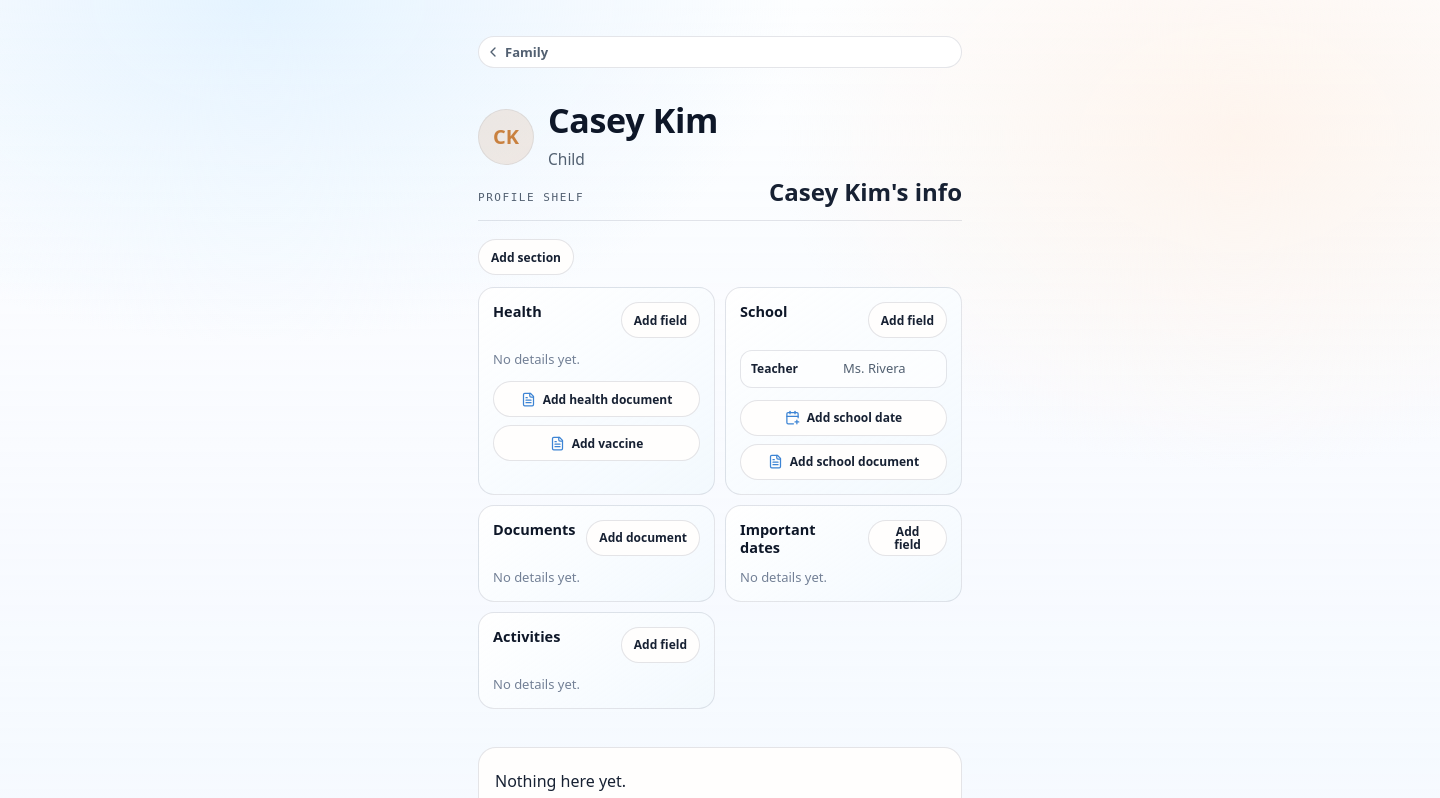
Test: MemberProfileView profile sections › adds a private field inside a profile section
Step 1. Click the button with aria-label "Add field to Health" → (660, 320), box [621,302,700,338]
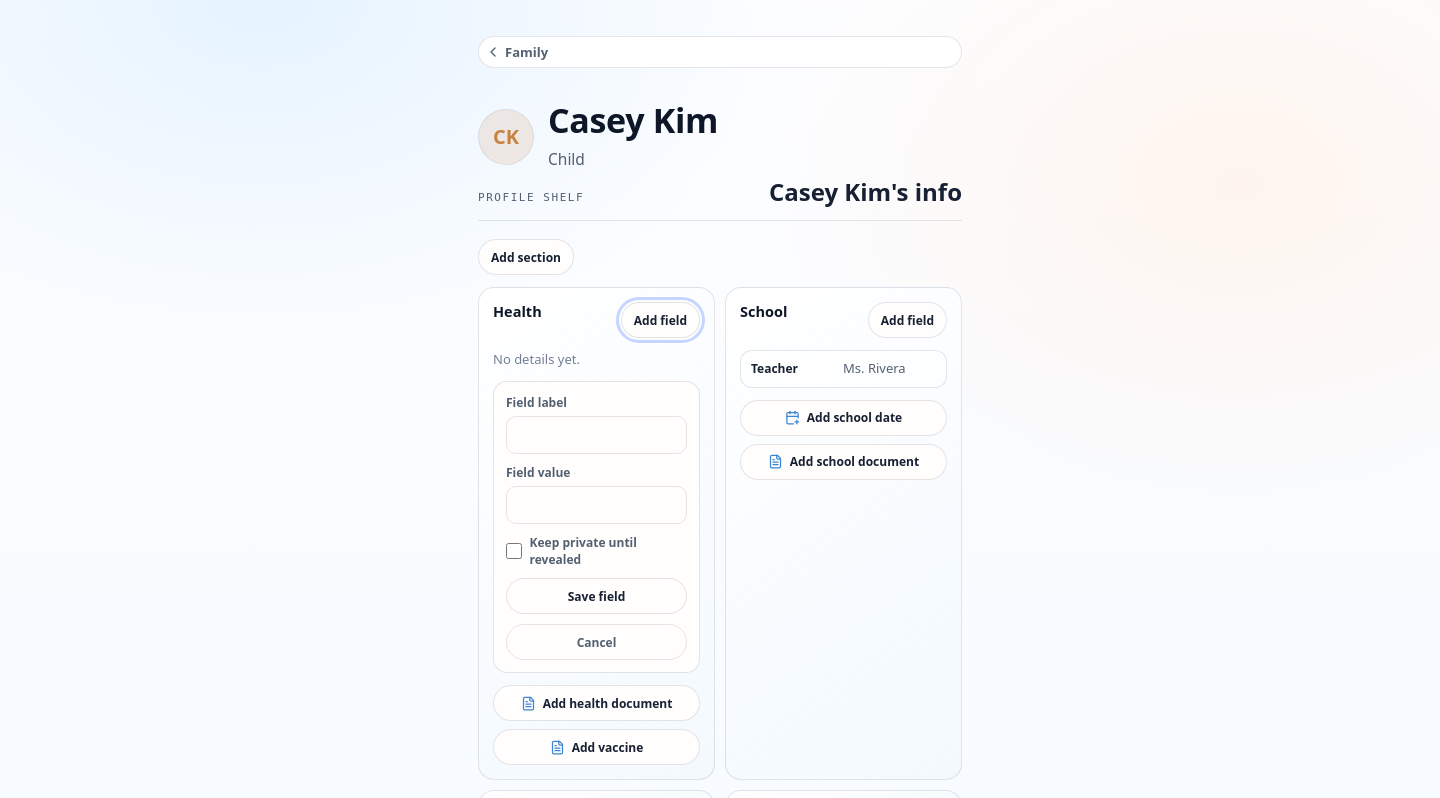
Step 2. Type "Allergy" into the field labelled "Field label" → (596, 435), box [506,416,687,454]
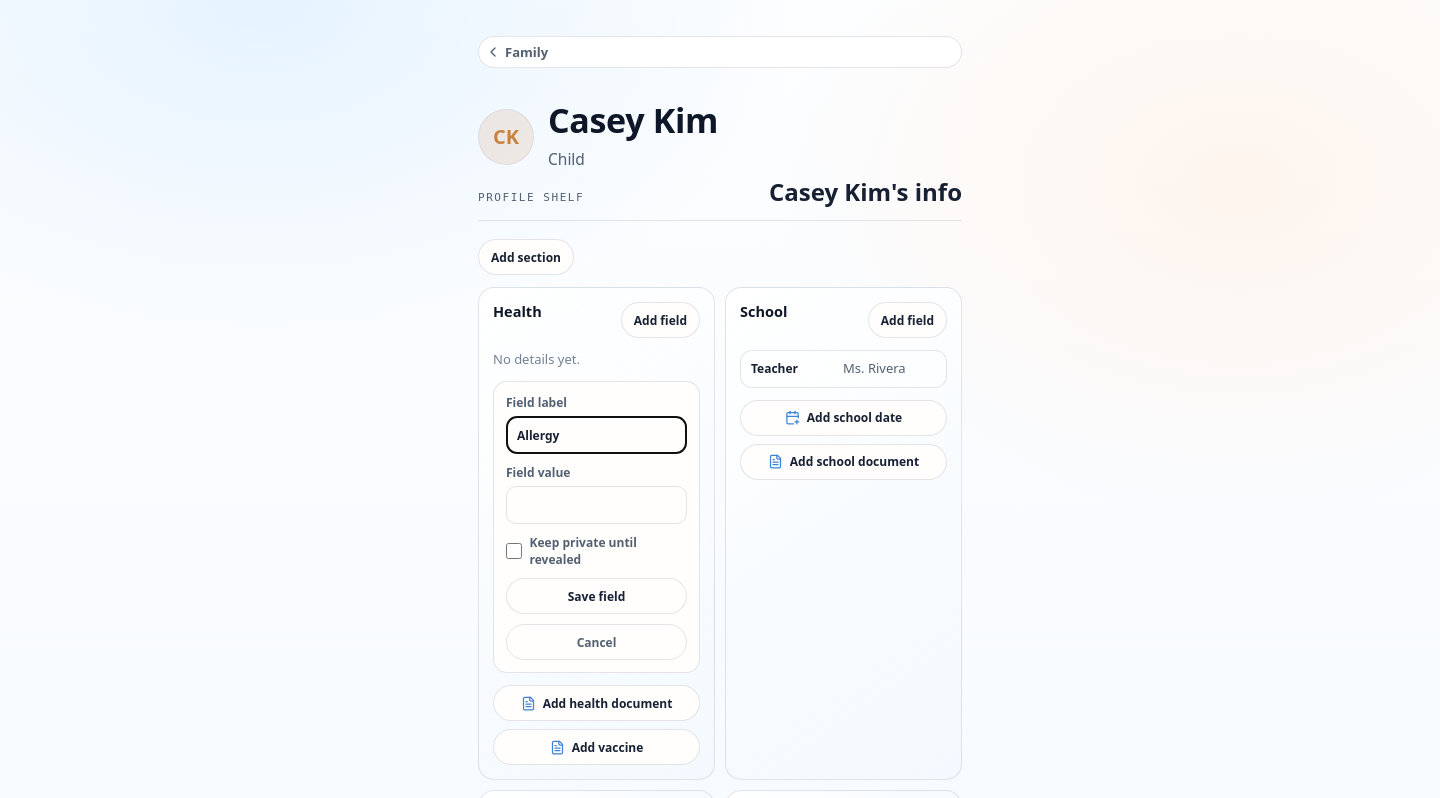
Step 3. Type "Peanuts" into the field labelled "Field value" → (596, 505), box [506,486,687,524]
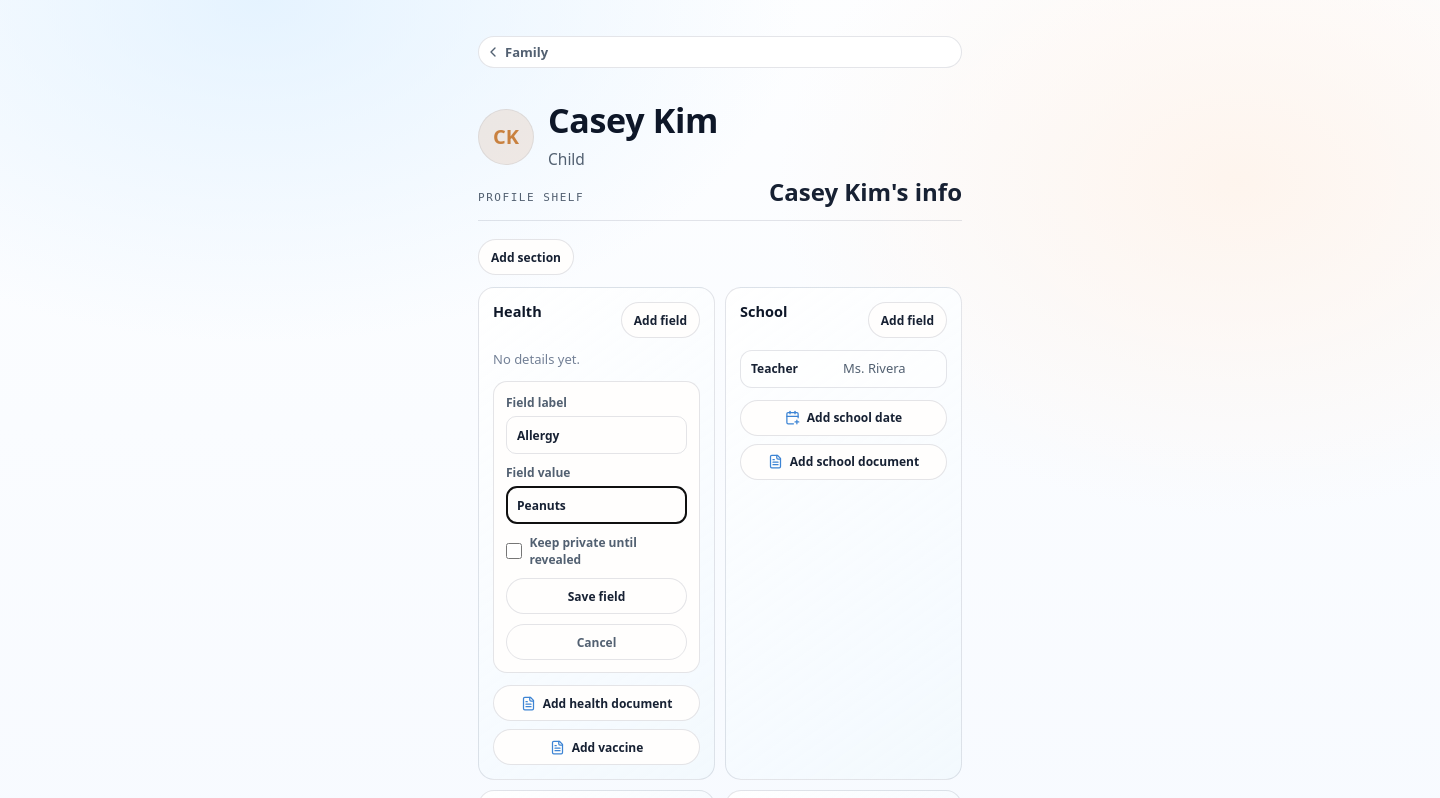
Step 4. Click the checkbox labelled "Keep private until revealed" → (514, 551), box [506,543,522,559]
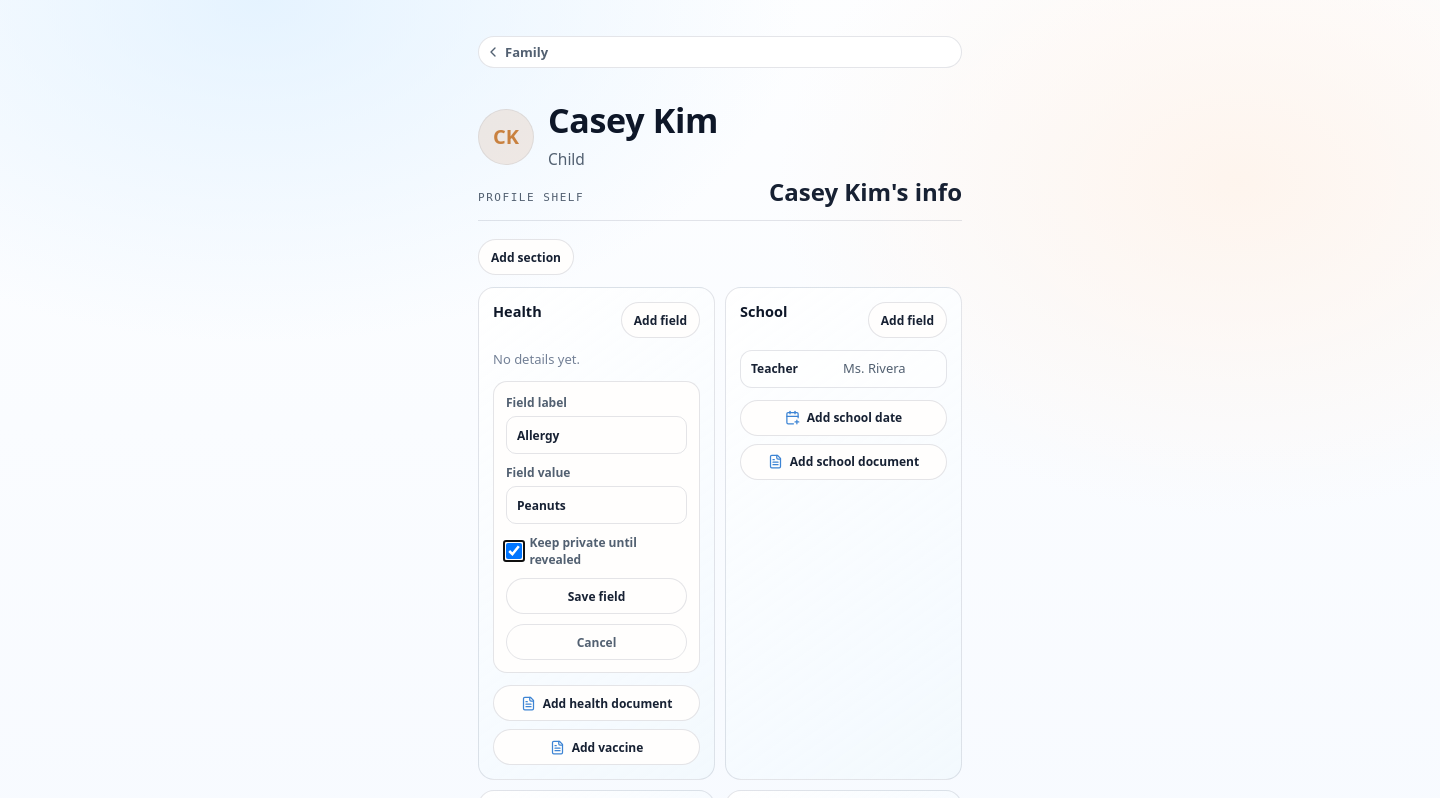
Step 5. Click the button "Save field" → (596, 596), box [506,578,687,614]
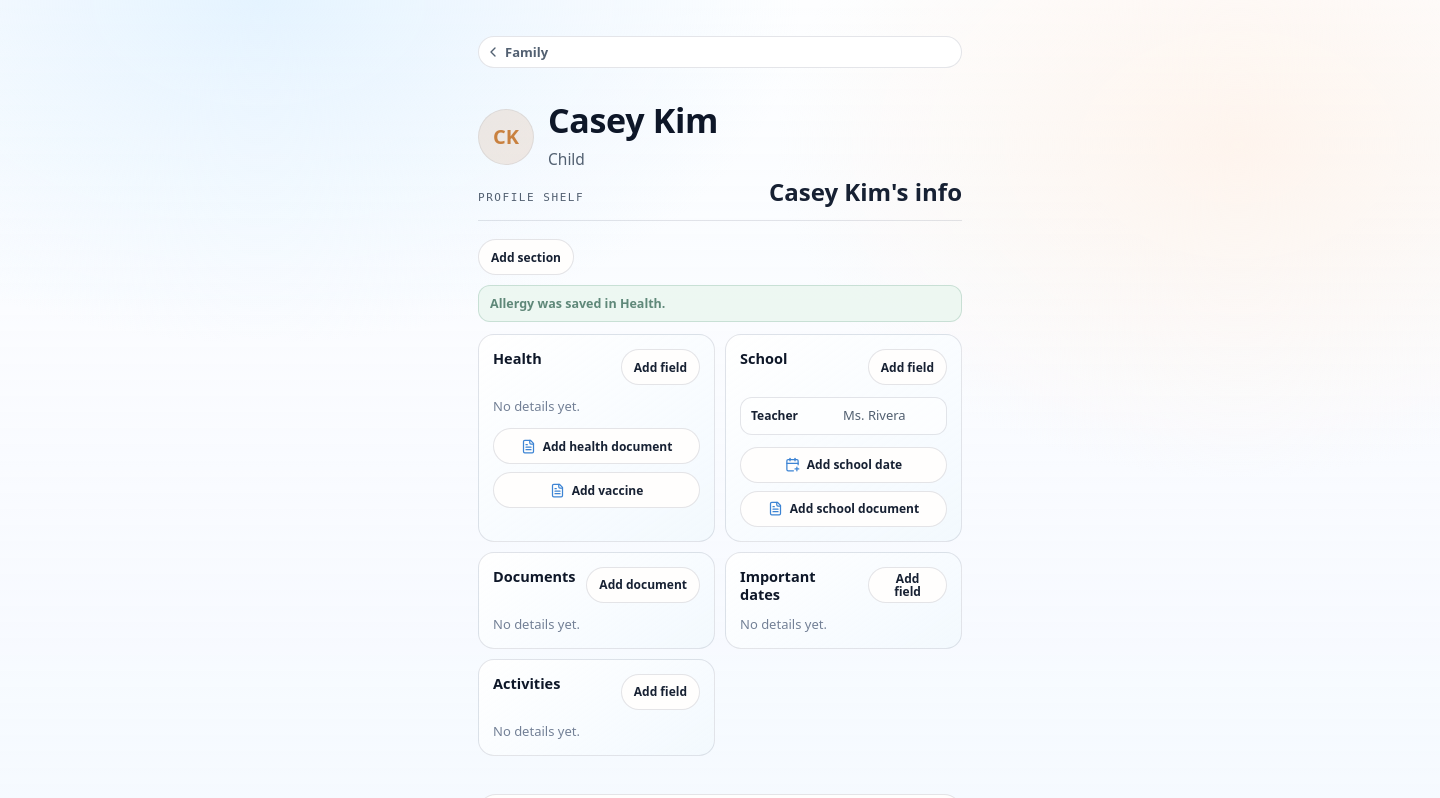
Expected: the message reads "Allergy was saved in Health.", [490,295,665,312]
